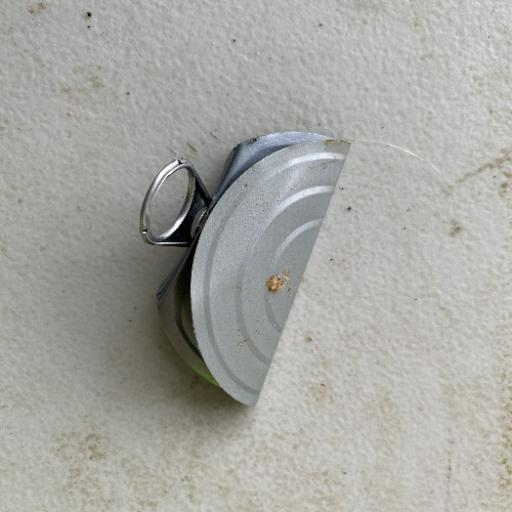Metal: (136, 127, 354, 408)
